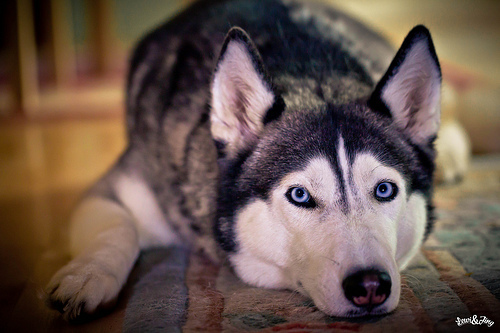dog: (39, 1, 442, 332)
